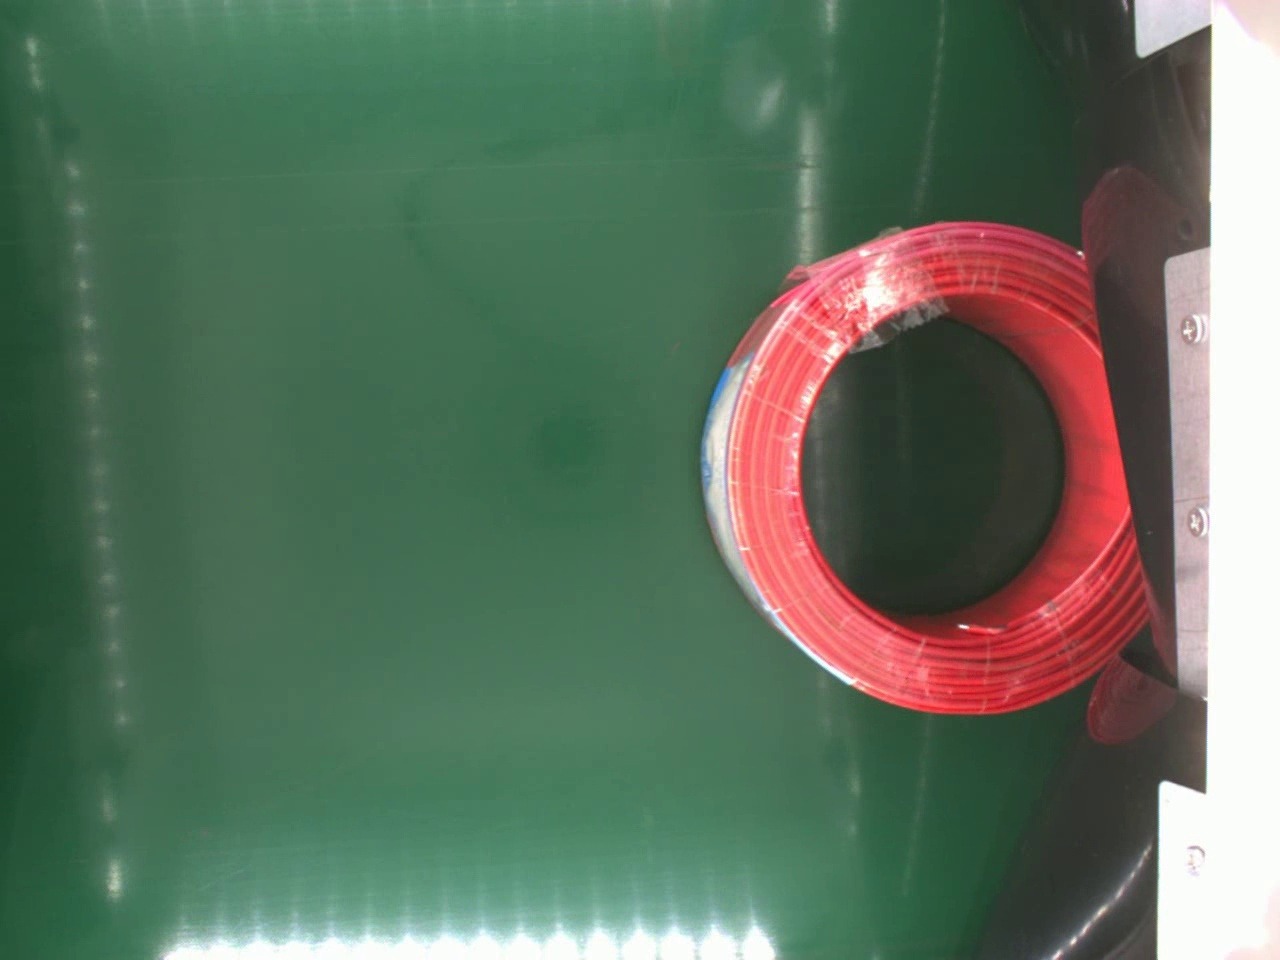red: (694, 219, 1152, 716)
